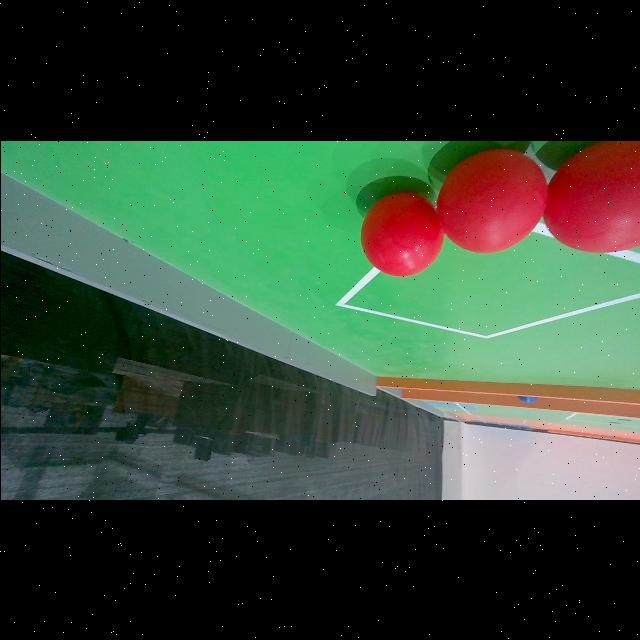R: (436, 149, 548, 253), (542, 140, 640, 254), (361, 193, 444, 277)
